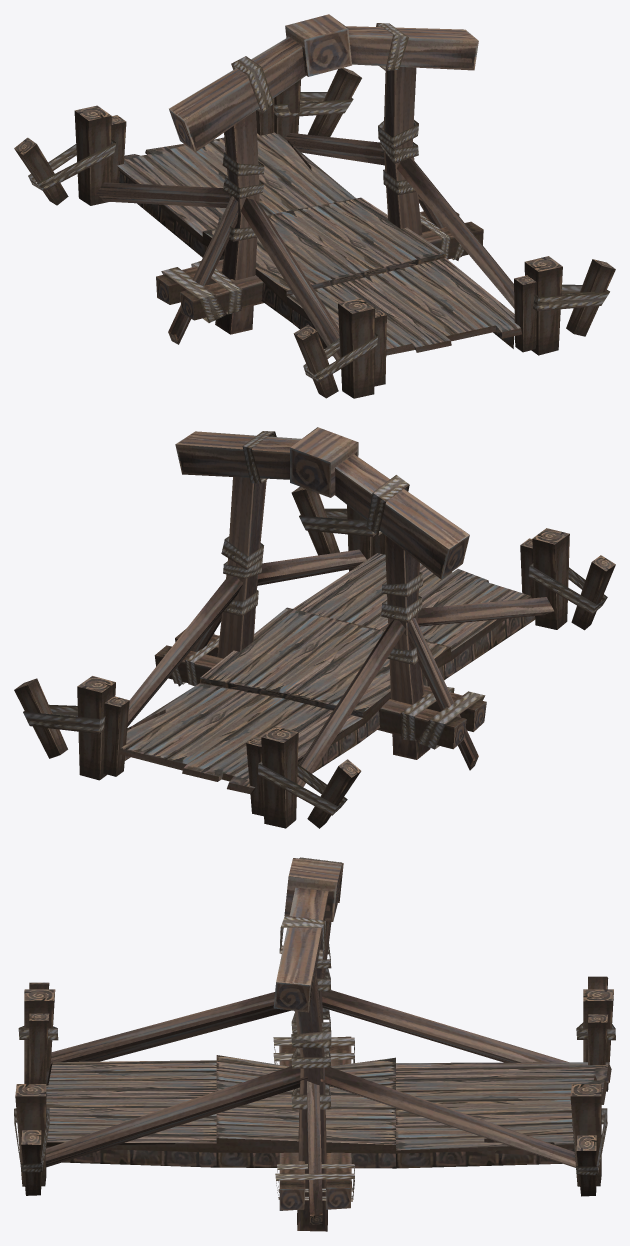
File: mine_bridge_01.fbx
The picture shows the model from 3 angles, top to bottom: view 1: azimuth 30°, elevation 25°; view 2: azimuth 150°, elevation 25°; view 3: azimuth 270°, elevation 25°; orthographic projection. The views are drawn at different scales.
Visible parts, largest first — view 1: obj2.001; view 2: obj2.001; view 3: obj2.001.
Part boxes in pixels (x1,y1,x2,y2): obj2.001: (14,14,615,398); obj2.001: (14,427,615,828); obj2.001: (14,857,615,1231).
Bounding box in the file's own units: 9.59 × 8.04 × 14.11.
